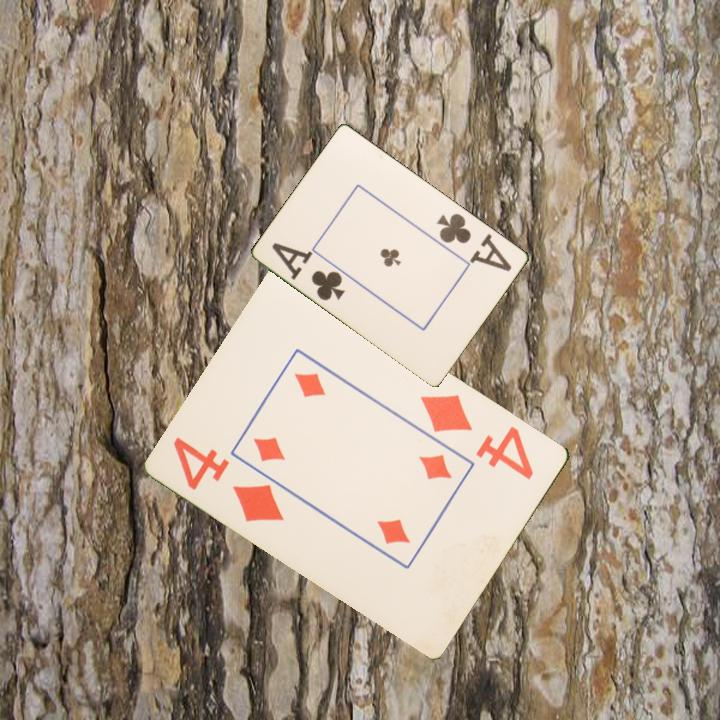4d: (417, 390, 537, 483), (170, 433, 288, 525)
Ac: (433, 209, 515, 275), (268, 239, 348, 304)
